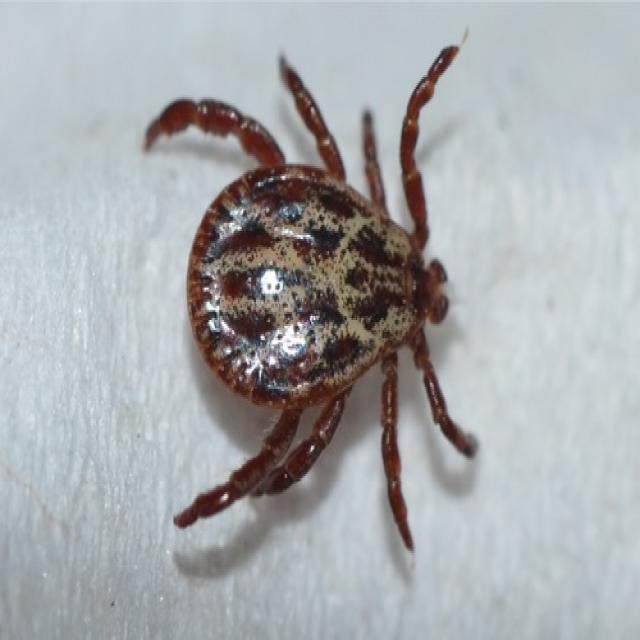Dermacentor Reticulatus-M: (143, 41, 479, 555)
